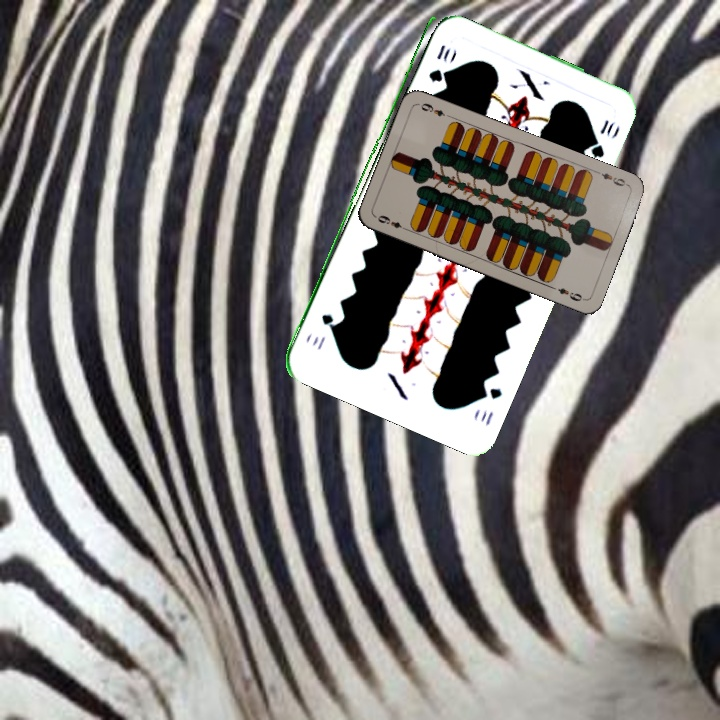E9: (592, 167, 631, 189), (374, 211, 411, 233)
G10: (474, 381, 505, 428), (424, 40, 453, 84)
